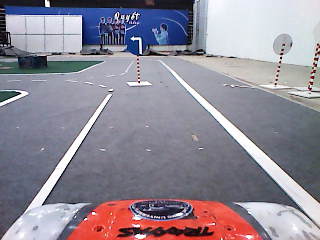turn: (126, 34, 149, 57)
